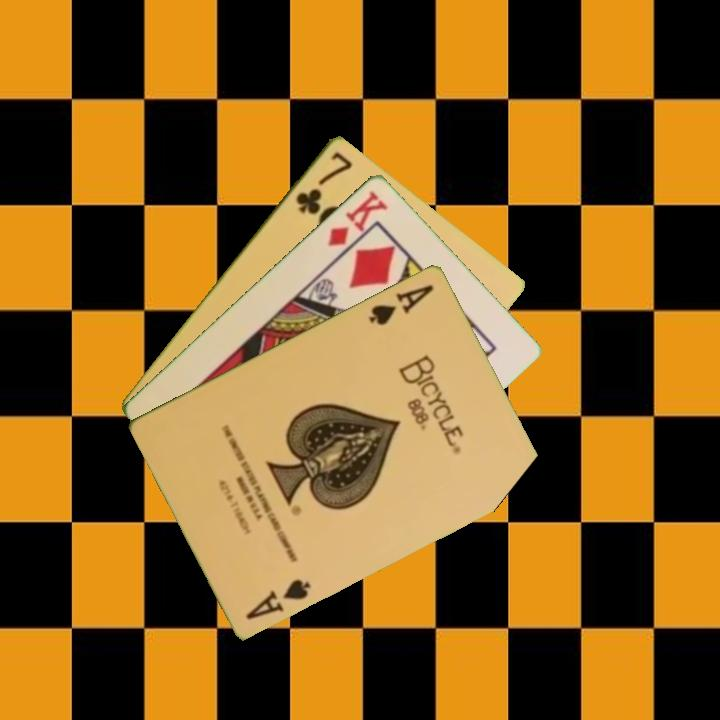7c: (292, 147, 355, 217)
As: (365, 280, 437, 328), (242, 574, 314, 622)
Kd: (324, 186, 391, 249)
